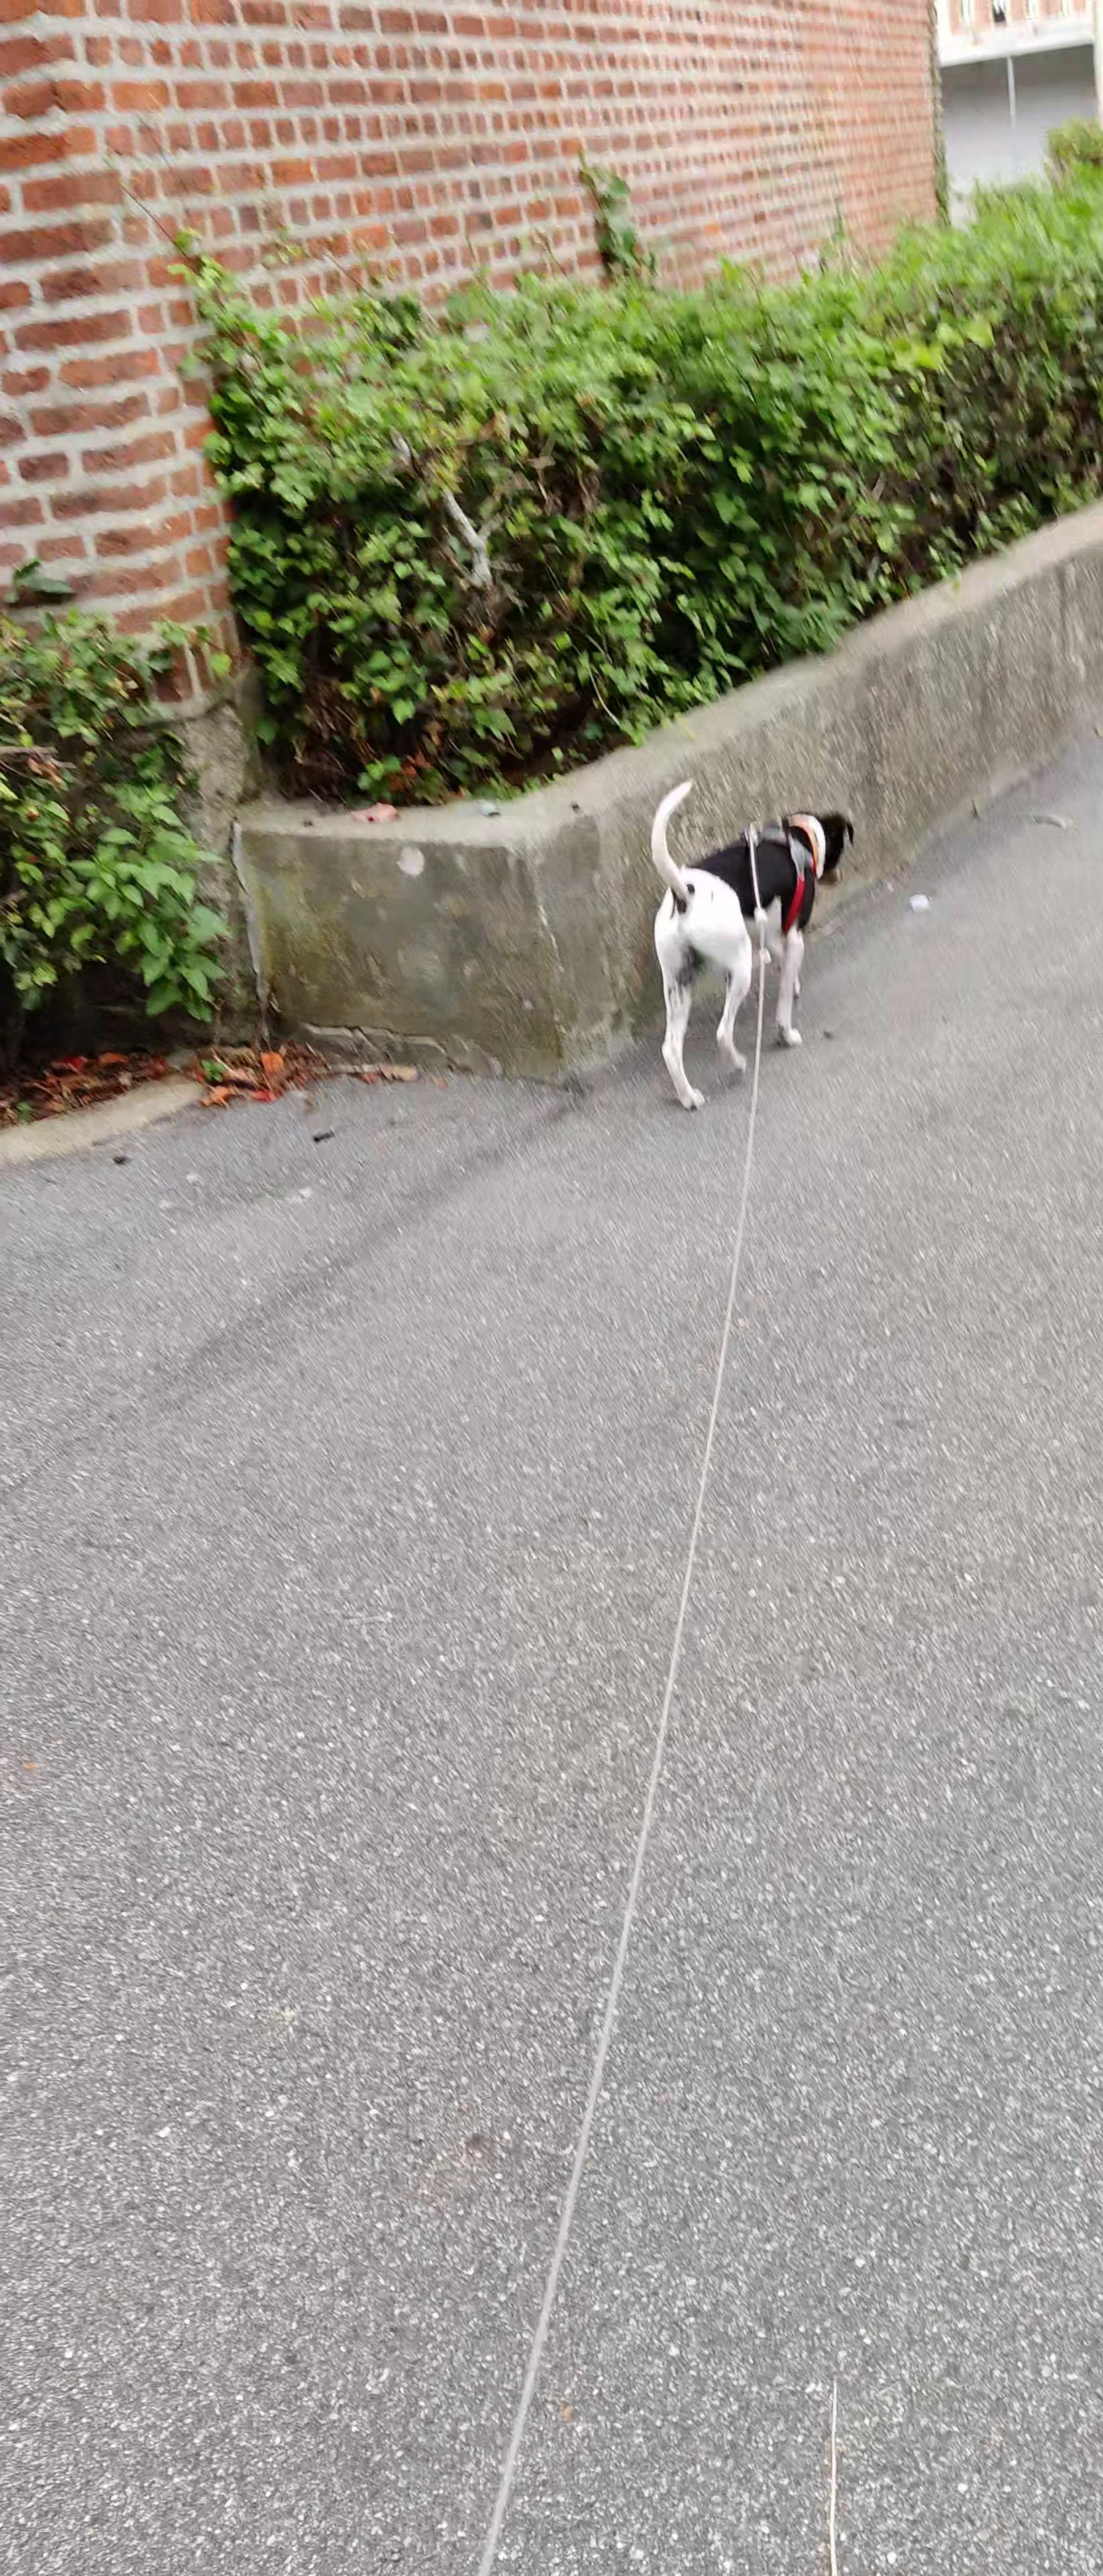Dog: (643, 770, 860, 1112)
